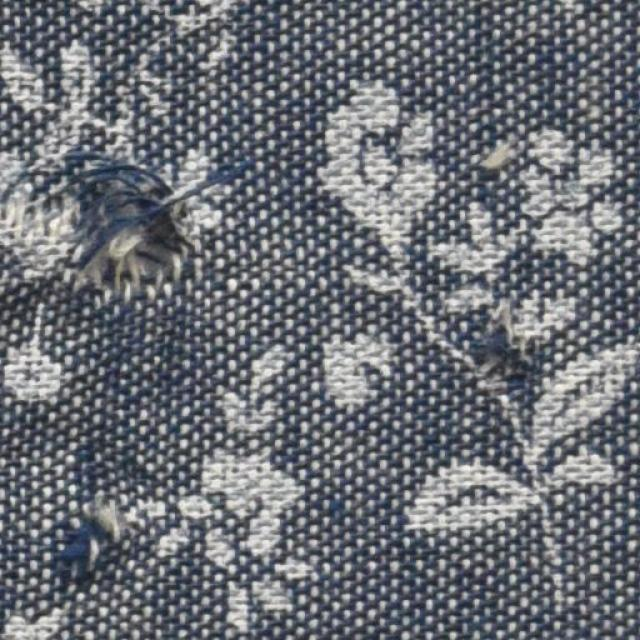Snag: (3, 149, 211, 307), (460, 311, 538, 401), (64, 495, 129, 585)
